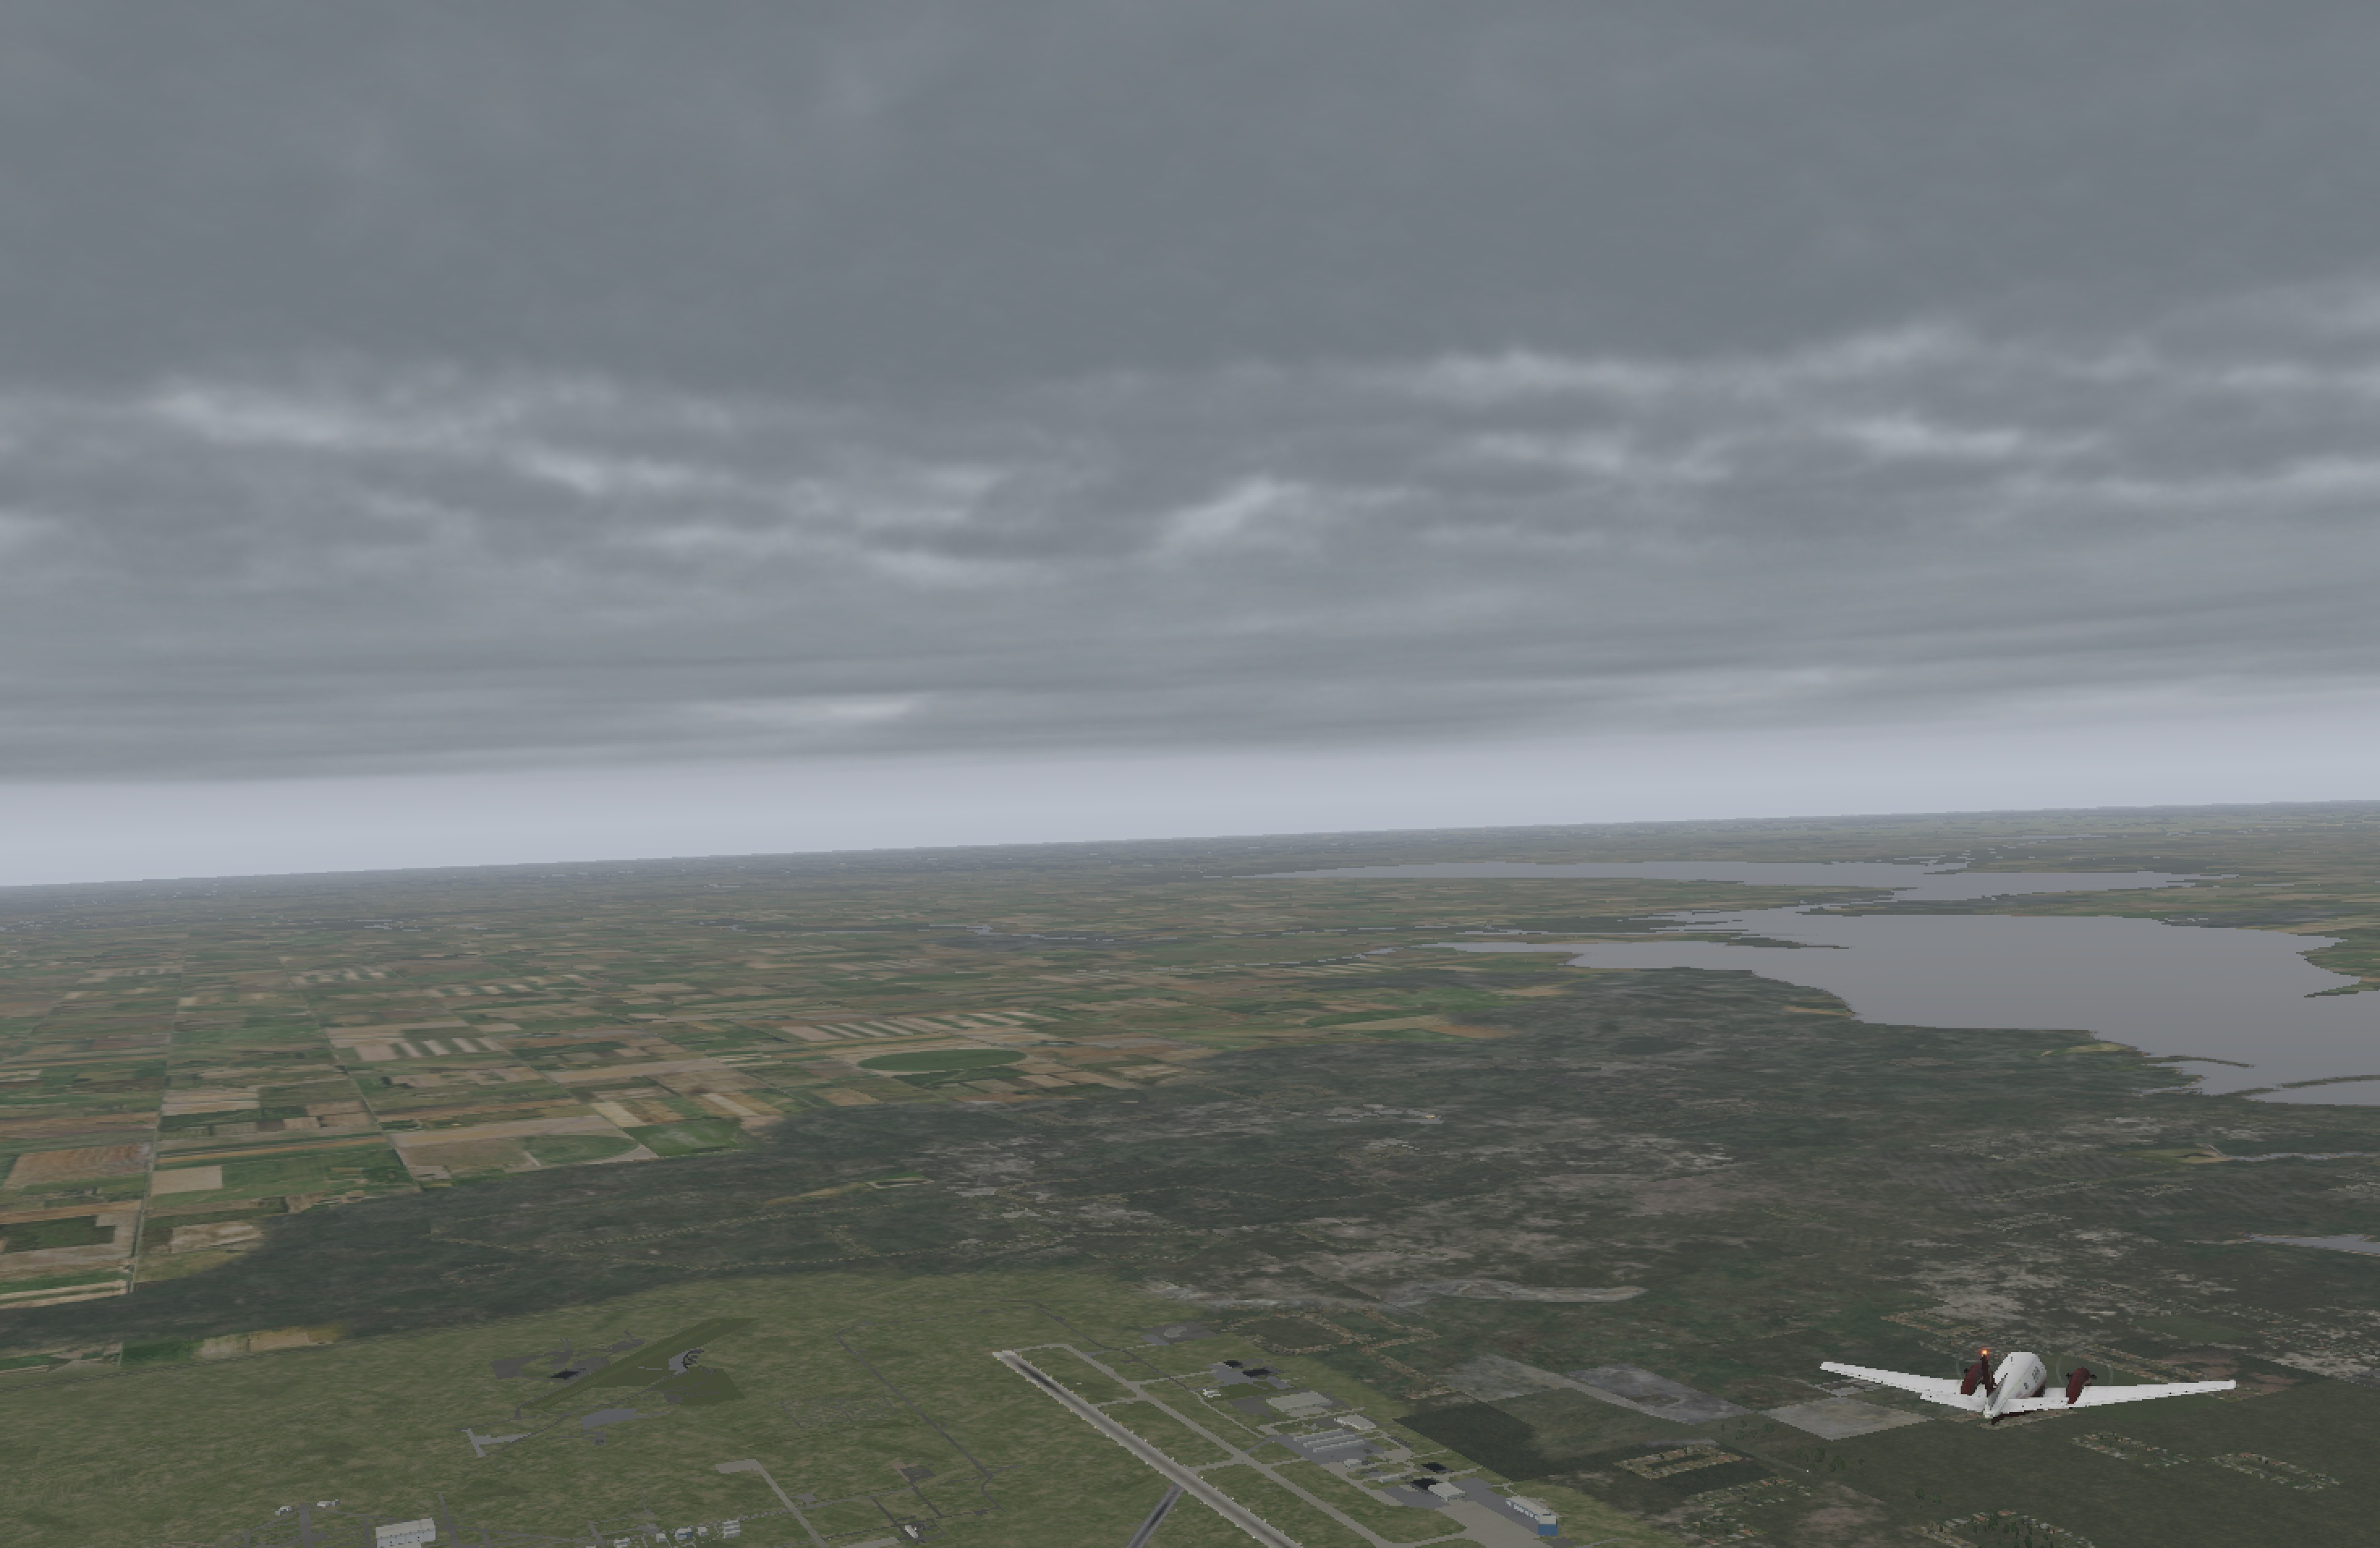aircraft: (1847, 1331, 2200, 1463)
